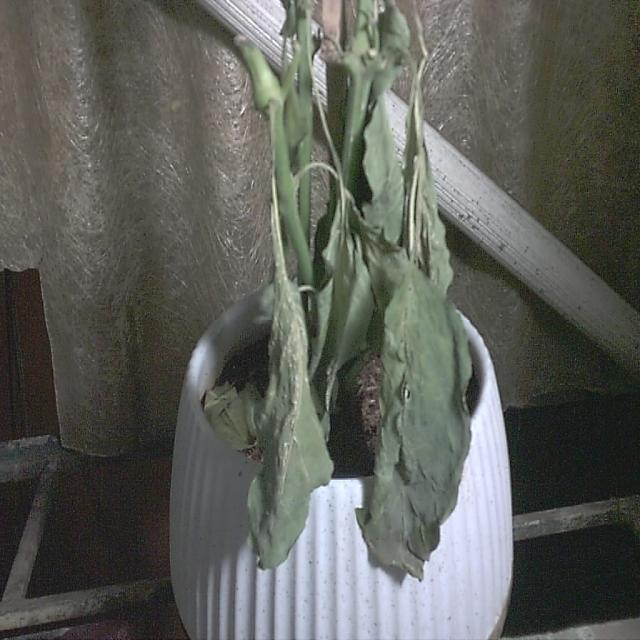Leaf: (357, 218, 476, 586), (241, 272, 334, 571)
